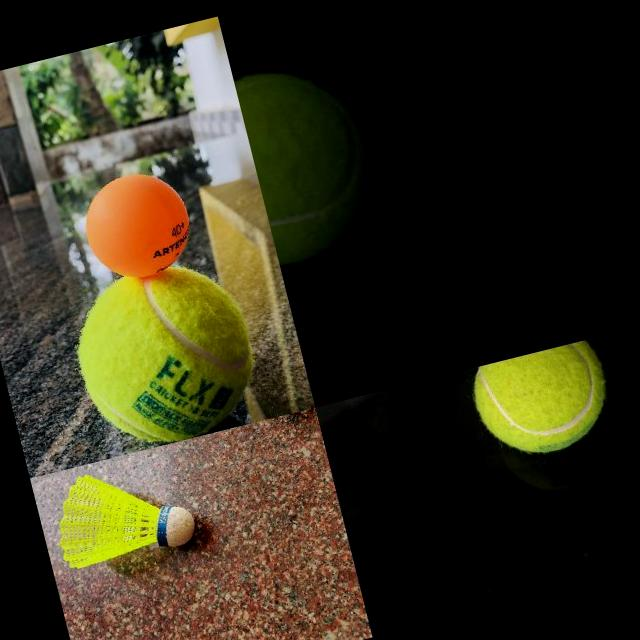tennis-ball: (64, 257, 268, 458), (232, 50, 392, 266), (466, 337, 620, 467)
